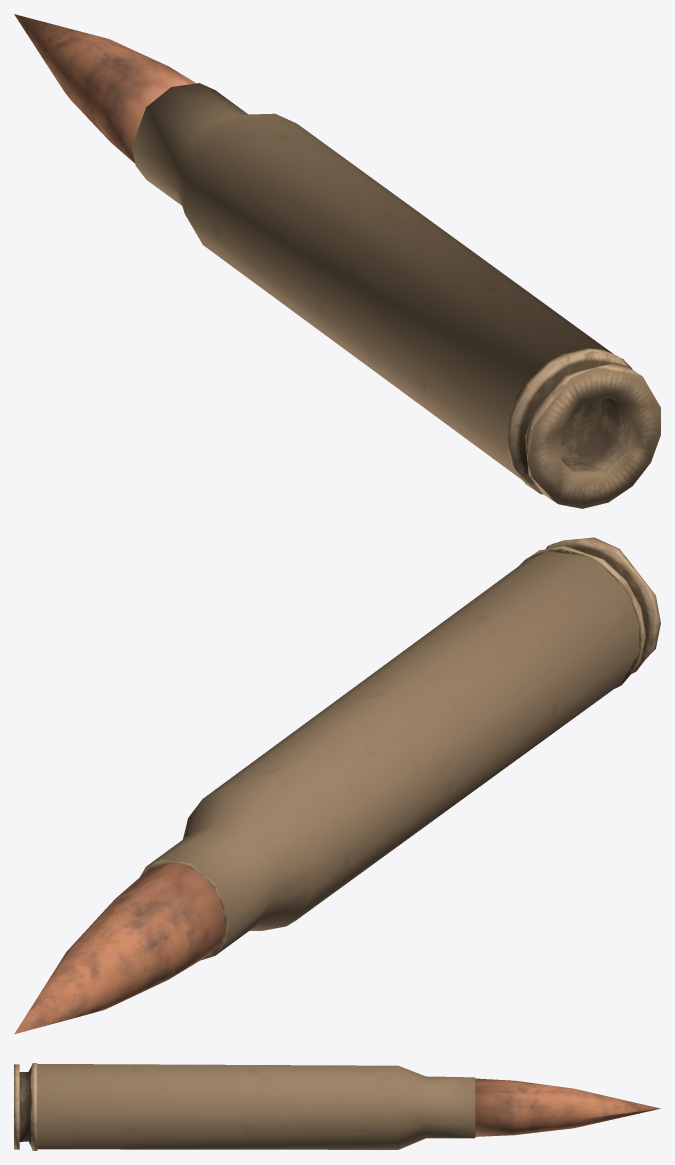
File: bala_sniper.glb
The picture shows the model from 3 angles, top to bottom: view 1: azimuth 30°, elevation 25°; view 2: azimuth 150°, elevation 25°; view 3: azimuth 270°, elevation 25°; orthographic projection. The views are drawn at different scales.
Visible parts, largest first — view 1: Cylinder, Cylinder001; view 2: Cylinder, Cylinder001; view 3: Cylinder, Cylinder001.
Boxes of the visible parts, x1,y1,x2,y2 form: Cylinder: [132, 83, 660, 508]; Cylinder001: [14, 14, 196, 162]; Cylinder: [140, 537, 660, 960]; Cylinder001: [14, 862, 224, 1034]; Cylinder: [14, 1063, 475, 1150]; Cylinder001: [475, 1078, 660, 1136].
Size of the model in its own units: 8.85 by 8.85 by 65.46.
Materials: 2 (2 with a texture image).
